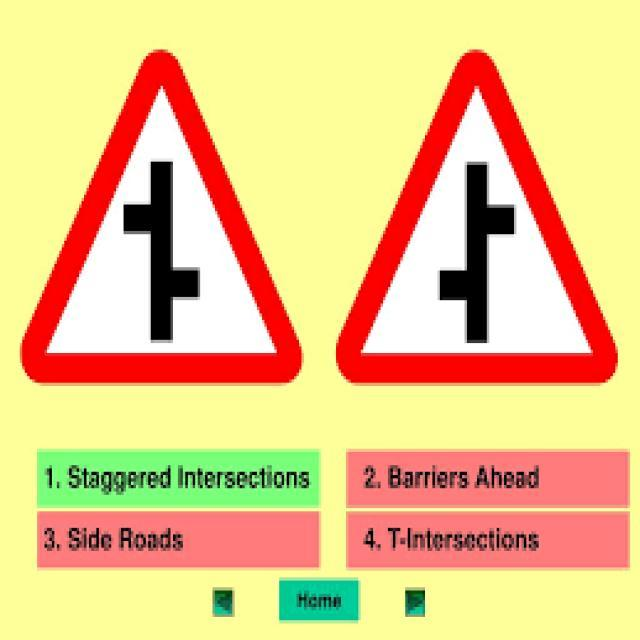staggered intersection: (9, 41, 309, 397)
